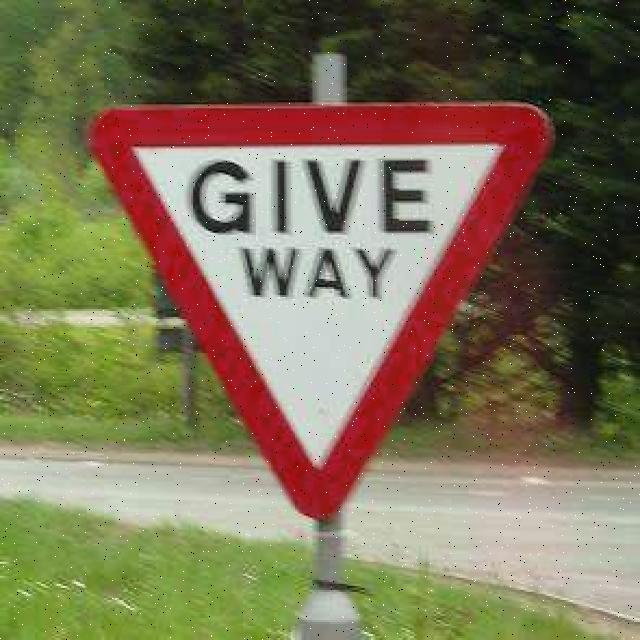giveway: (91, 106, 544, 516)
